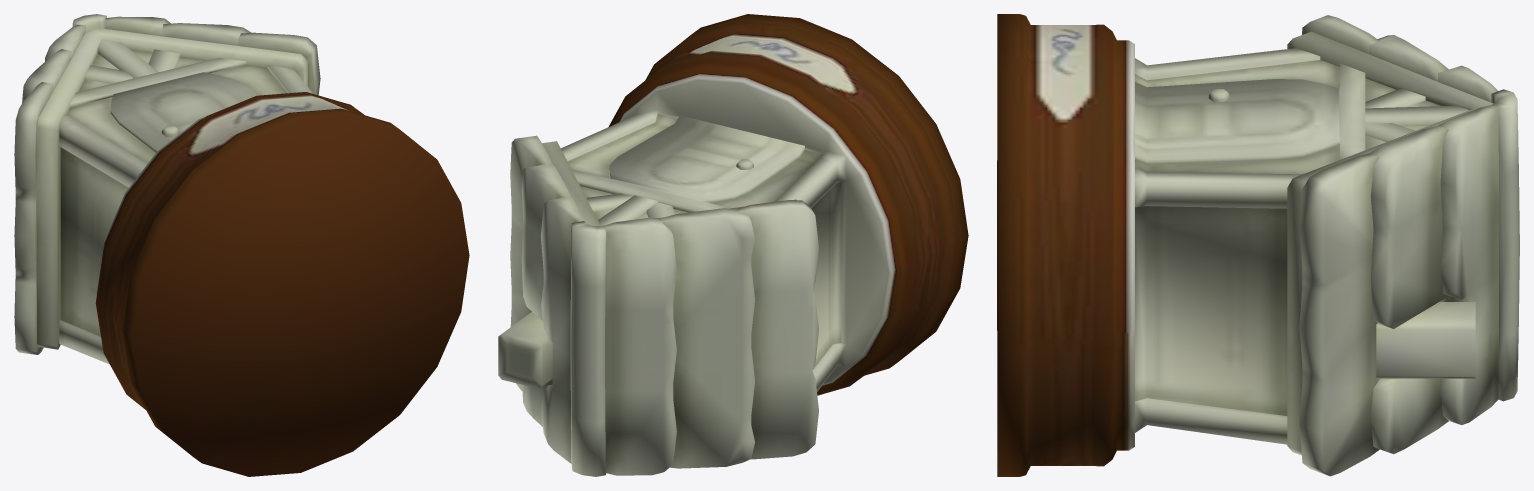
The model's file is silver-hha-trophy.glb.
The picture shows the model from 3 angles, left to right: view 1: azimuth 30°, elevation 25°; view 2: azimuth 150°, elevation 25°; view 3: azimuth 270°, elevation 25°; orthographic projection. The views are drawn at different scales.
Visible parts, largest first — view 1: FtrTrophyHhaSilver_node1; view 2: FtrTrophyHhaSilver_node1; view 3: FtrTrophyHhaSilver_node1.
Part boxes in pixels (x1,y1,x2,y2): FtrTrophyHhaSilver_node1: (14,14,469,476); FtrTrophyHhaSilver_node1: (498,14,968,476); FtrTrophyHhaSilver_node1: (997,14,1519,476).
Size of the model in its own units: 6.18 by 6.18 by 6.92.
Materials: 1 (1 with a texture image).
